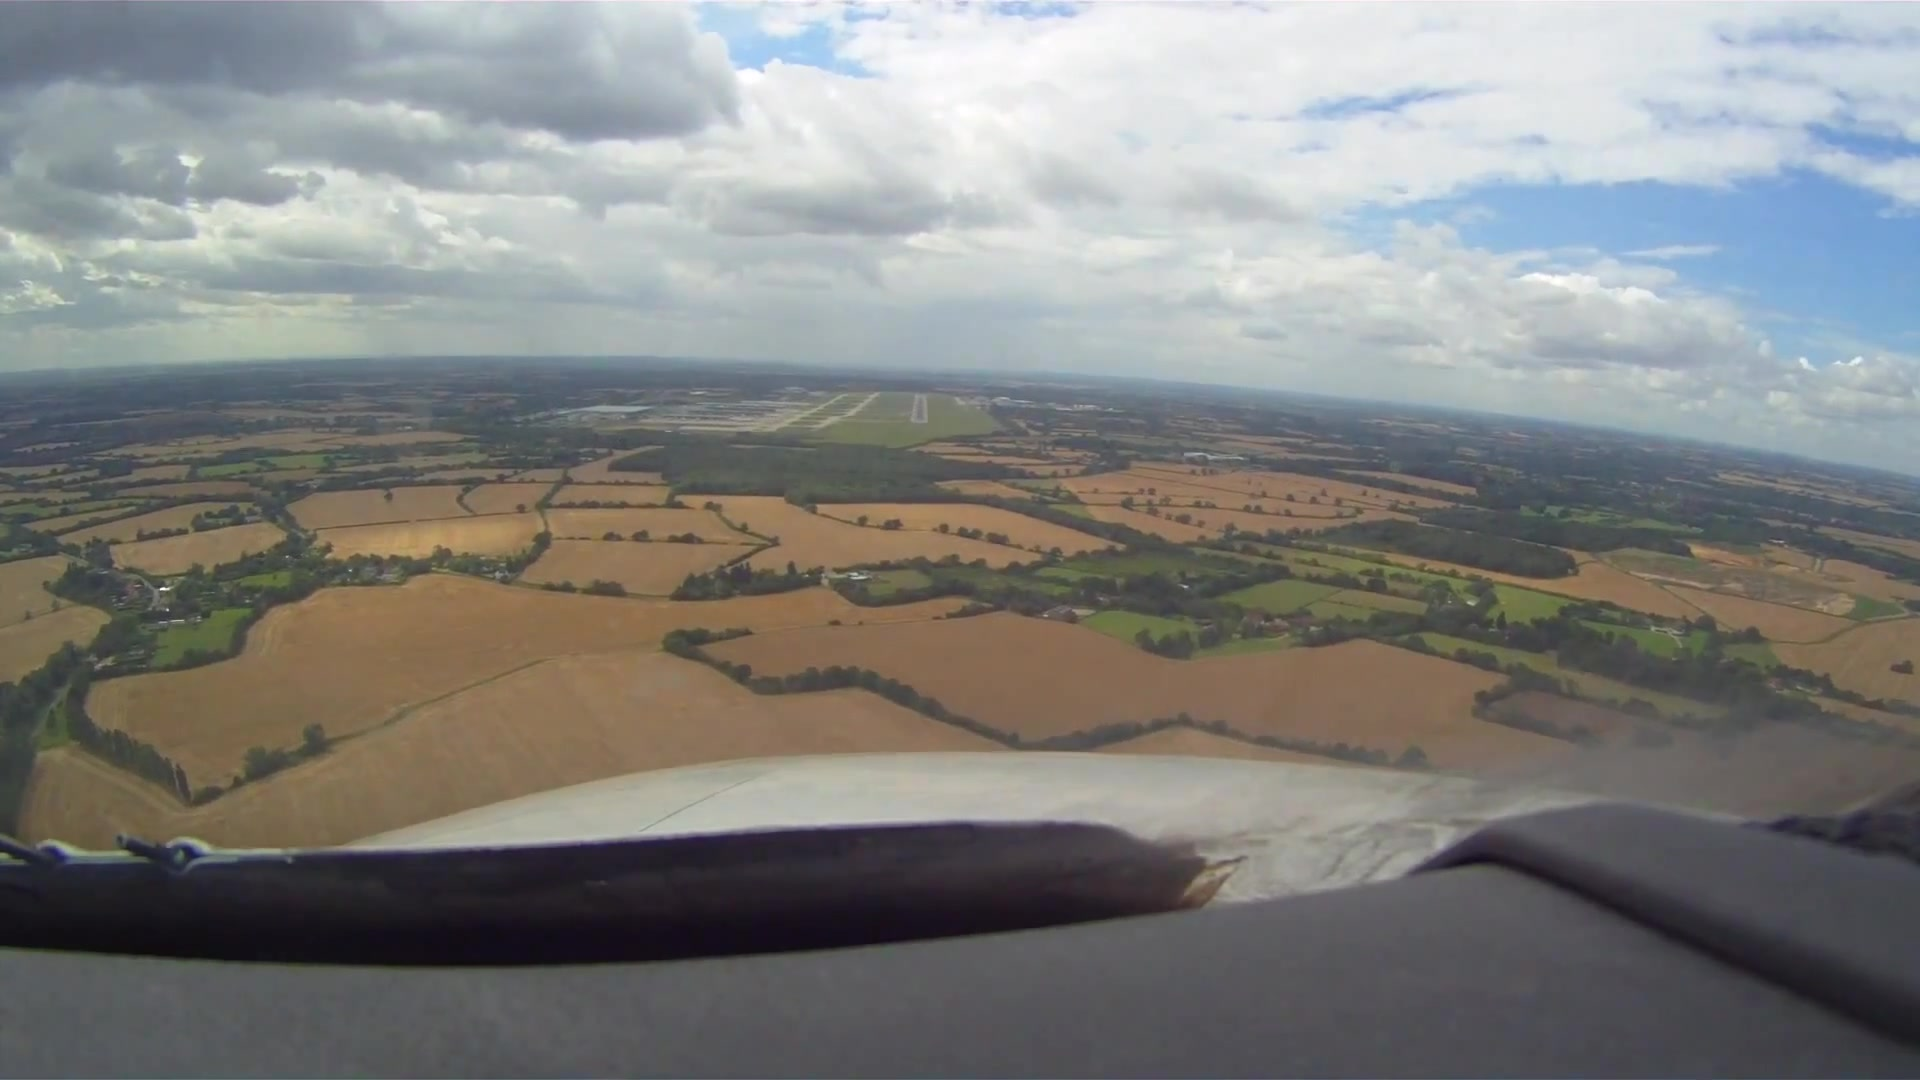runway: (907, 393, 930, 425)
